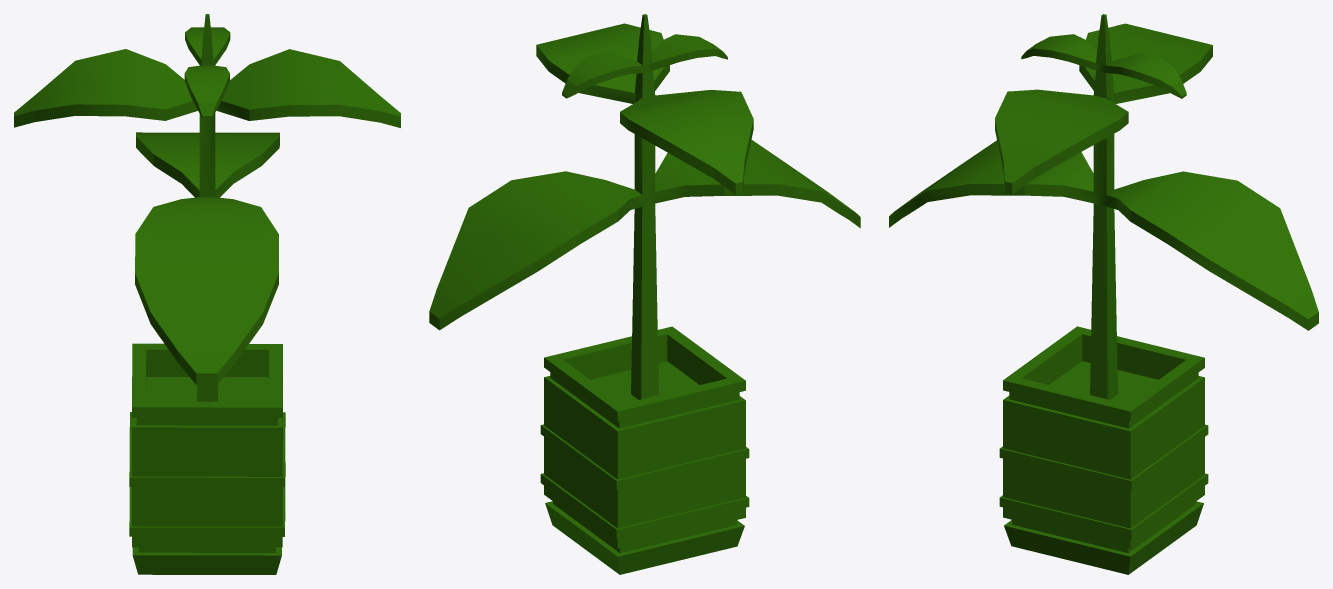
Rendered from Planta.fbx.
The picture shows the model from 3 angles, left to right: view 1: azimuth 30°, elevation 25°; view 2: azimuth 150°, elevation 25°; view 3: azimuth 270°, elevation 25°; orthographic projection.
Visible parts, largest first — view 1: Kir_Planta2; view 2: Kir_Planta2; view 3: Kir_Planta2.
Part boxes in pixels (box(x1,y1,x2,y2)): Kir_Planta2: box(14, 14, 400, 574); Kir_Planta2: box(429, 14, 860, 574); Kir_Planta2: box(889, 14, 1318, 574).
Bounding box in the file's own units: 0.0175 × 0.0302 × 0.0226.
